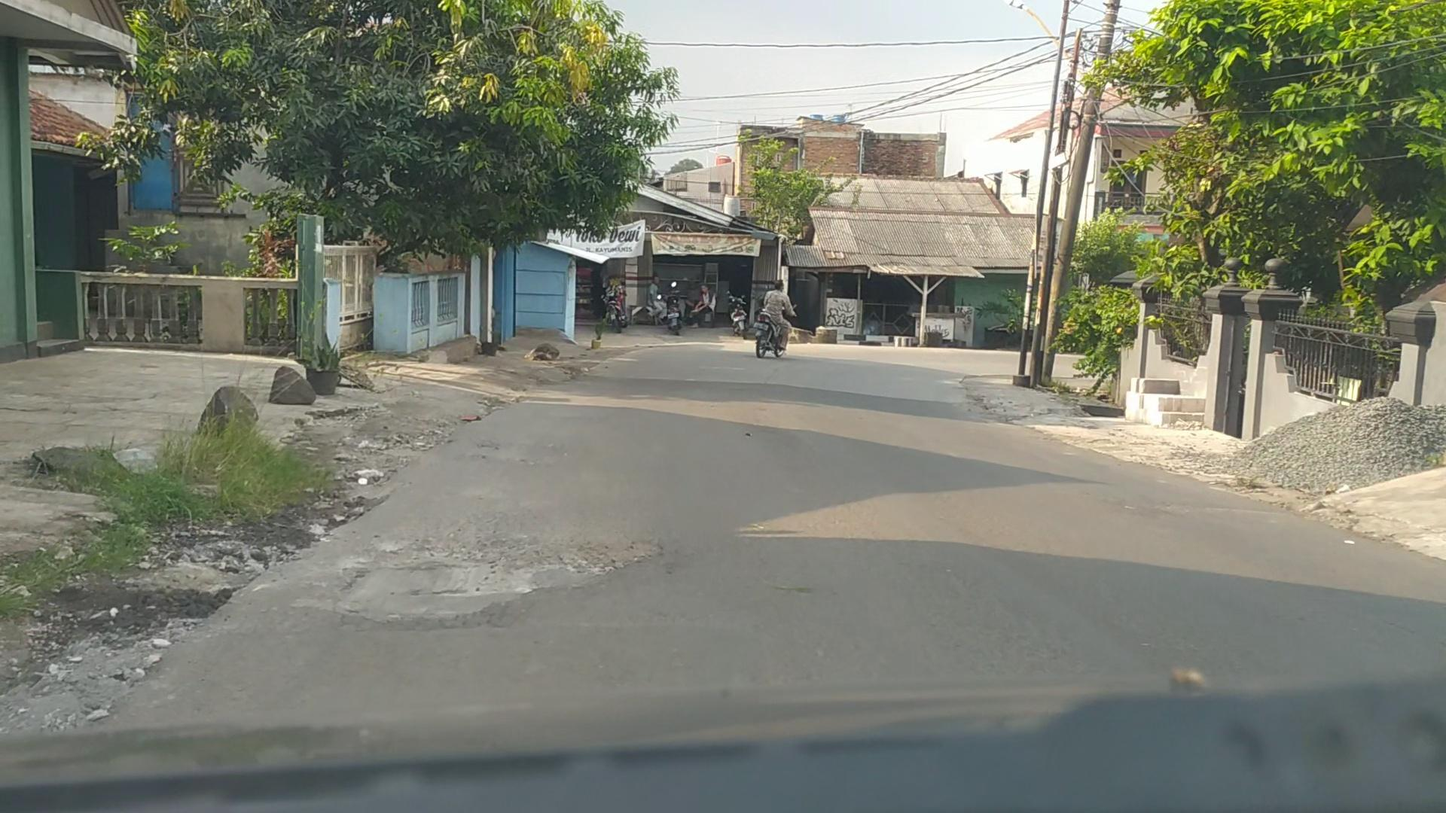pothole: (332, 531, 671, 621)
